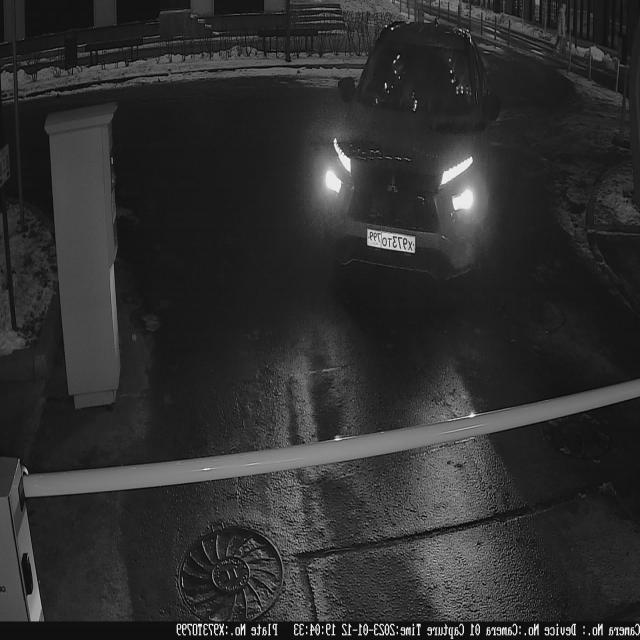car-plate-numbers: (366, 225, 420, 265)
